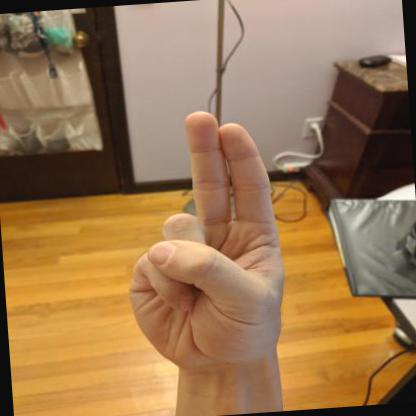U: (129, 111, 284, 371)
